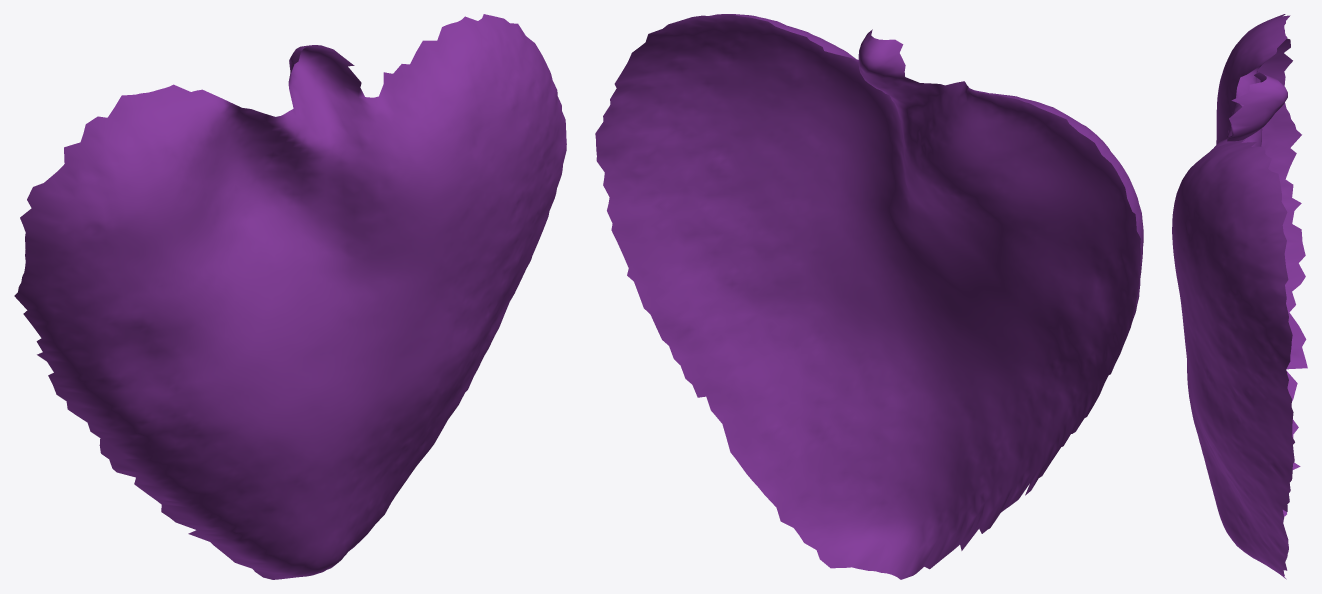
File: real_heart_SFHC.glb
3 renders of one model, left to right at view 1: azimuth 30°, elevation 25°; view 2: azimuth 150°, elevation 25°; view 3: azimuth 270°, elevation 25°, orthographic. The views are drawn at different scales.
Visible parts, largest first — view 1: result-20260104_145204-heart-baseline; view 2: result-20260104_145204-heart-baseline; view 3: result-20260104_145204-heart-baseline.
Boxes of the visible parts, x1,y1,x2,y2 form: result-20260104_145204-heart-baseline: (14,14,566,579); result-20260104_145204-heart-baseline: (595,14,1143,579); result-20260104_145204-heart-baseline: (1172,14,1307,579).
Size of the model in its own units: 0.7997 by 0.7457 by 0.1889.
